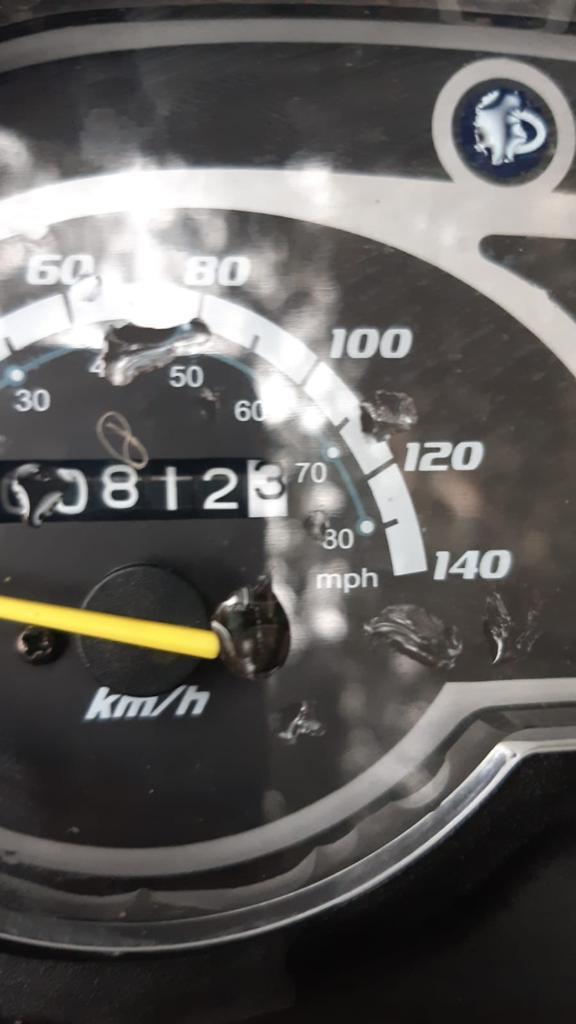0: (49, 462, 91, 518)
1: (152, 459, 186, 517)
3: (251, 455, 290, 509)
8: (97, 460, 137, 512)
odometer: (0, 450, 297, 529)
